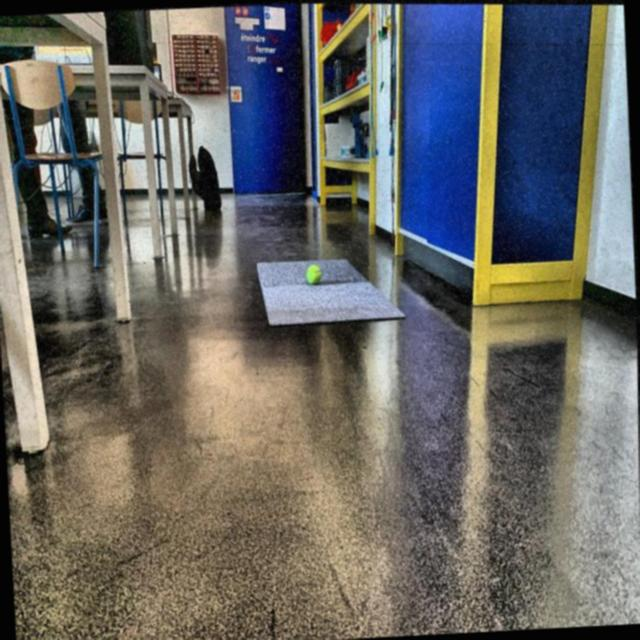tennis-ball: (307, 262, 323, 288)
